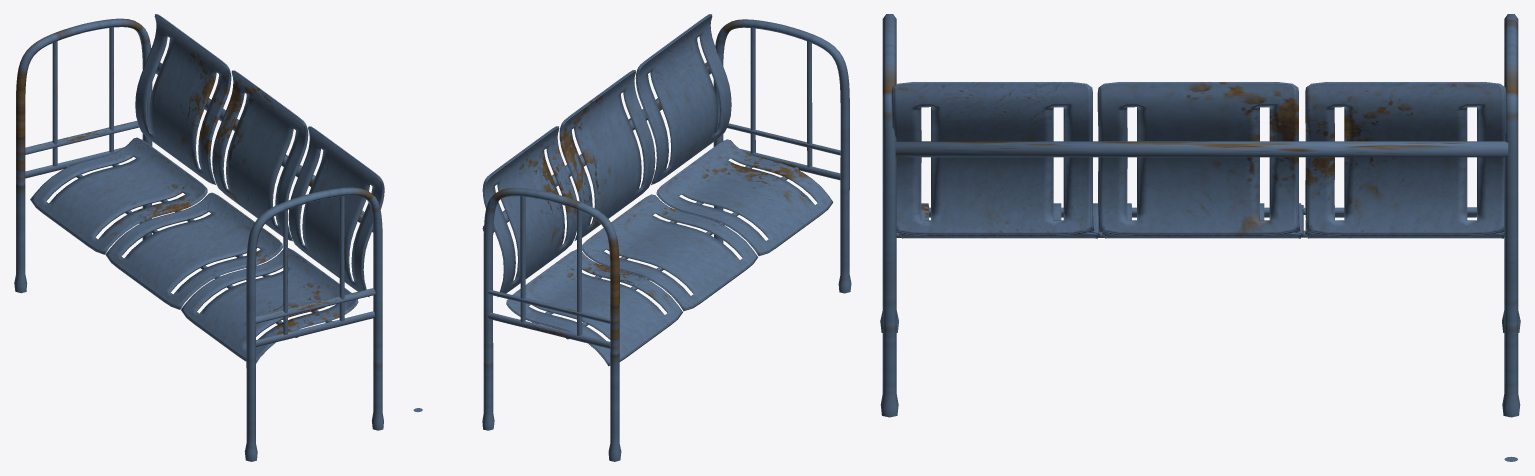
File: chairbench_rusty.fbx
The picture shows the model from 3 angles, left to right: view 1: azimuth 30°, elevation 25°; view 2: azimuth 150°, elevation 25°; view 3: azimuth 270°, elevation 25°; orthographic projection. The views are drawn at different scales.
Visible parts, largest first — view 1: NurbsPath.002; view 2: NurbsPath.002; view 3: NurbsPath.002.
Boxes of the visible parts, x1,y1,x2,y2 form: NurbsPath.002: (14, 14, 384, 461); NurbsPath.002: (413, 14, 851, 461); NurbsPath.002: (880, 14, 1520, 461).
Bounding box in the file's own units: 1104 × 1277 × 2199.
1 material, 1 textured.
